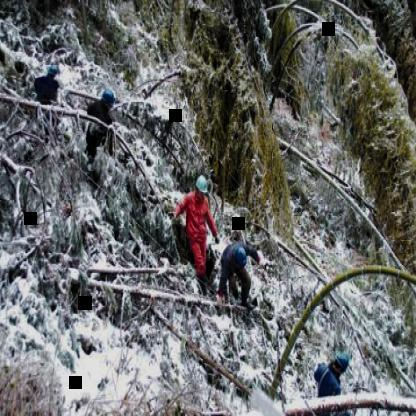helmet: (232, 240, 250, 272), (192, 171, 210, 203), (330, 348, 349, 374), (100, 88, 116, 112)
